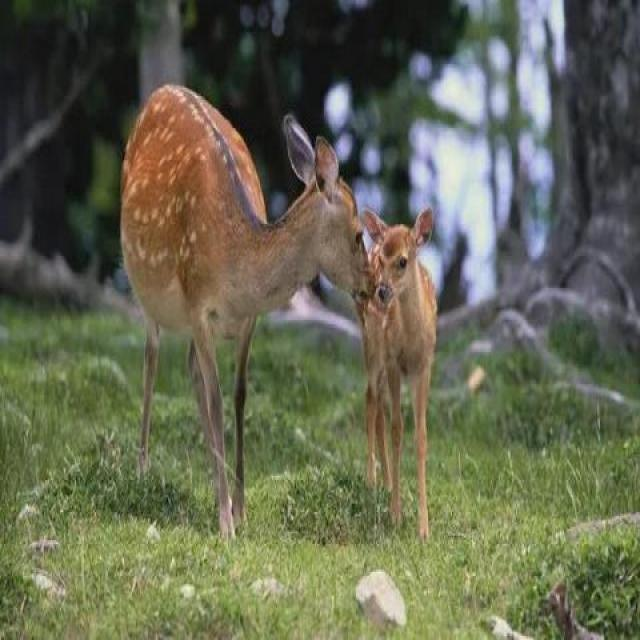deer: (109, 32, 372, 568), (316, 166, 488, 442)
